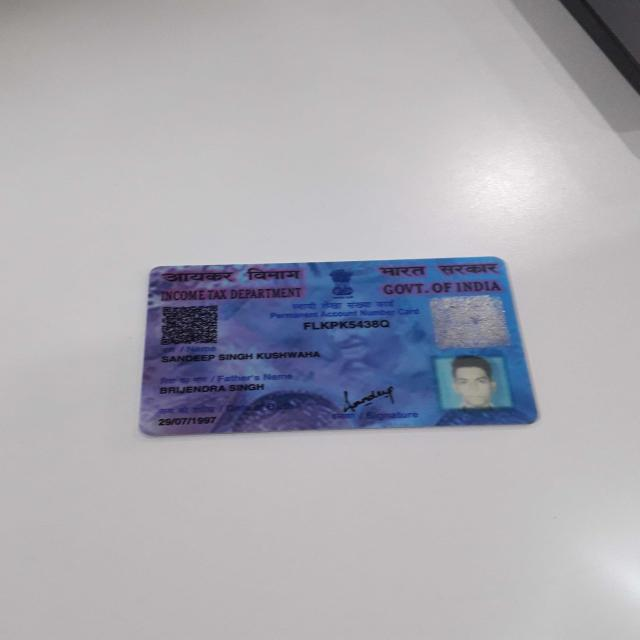pan_card: (144, 257, 535, 434)
